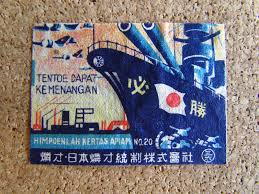Japanese Flag: (151, 81, 187, 116)
